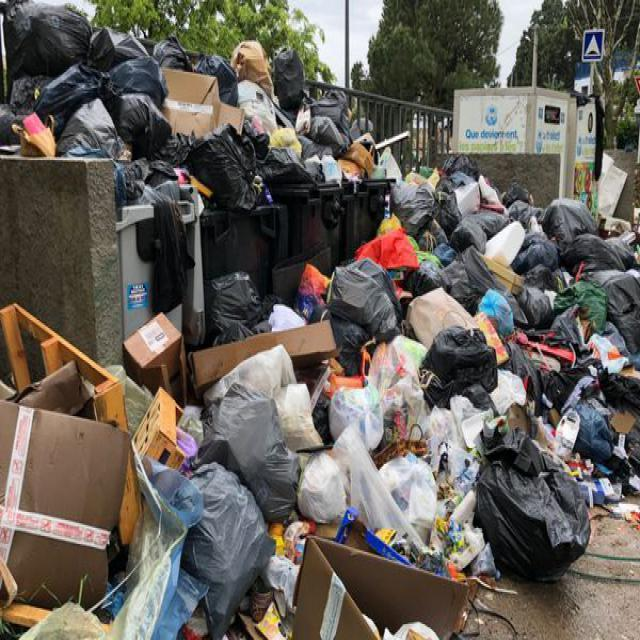Trashbag: (481, 441, 586, 590), (186, 471, 259, 603), (325, 257, 405, 364), (226, 392, 300, 505), (420, 332, 498, 401), (15, 5, 96, 69), (198, 132, 265, 208), (410, 252, 489, 309), (38, 62, 106, 125), (209, 270, 262, 350), (398, 178, 458, 238), (597, 271, 640, 340), (267, 47, 313, 108), (574, 398, 616, 463), (116, 94, 163, 151), (570, 234, 624, 279), (454, 208, 503, 257), (201, 48, 240, 108), (117, 56, 166, 102), (92, 27, 149, 66), (544, 200, 595, 242), (498, 189, 539, 228), (519, 284, 553, 326), (522, 230, 555, 268), (156, 39, 191, 70), (446, 151, 478, 181)
